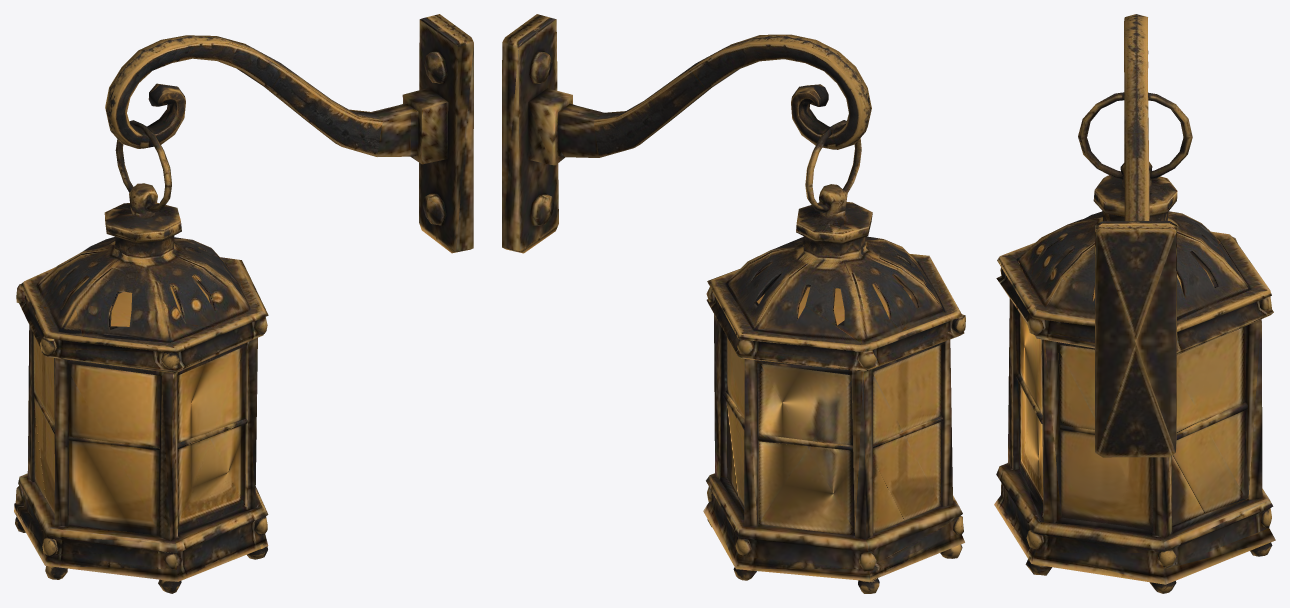
Rendered from brass-lantern.glb.
3 views of the same model, side by side, from view 1: azimuth 30°, elevation 25°; view 2: azimuth 150°, elevation 25°; view 3: azimuth 270°, elevation 25° (orthographic). The views are drawn at different scales.
Parts seen in each view (by area): view 1: brass-lantern-v2_LOD0; view 2: brass-lantern-v2_LOD0; view 3: brass-lantern-v2_LOD0.
Boxes of the visible parts, x1,y1,x2,y2 form: brass-lantern-v2_LOD0: (14, 14, 473, 593); brass-lantern-v2_LOD0: (502, 14, 965, 593); brass-lantern-v2_LOD0: (994, 14, 1275, 593).
Size of what is drawn, in the model's own units: 0.9037 by 0.9996 by 0.4816.
Materials: 1 (1 with a texture image).
